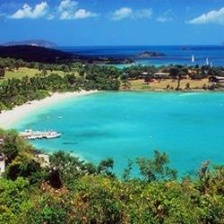neutral: (1, 57, 224, 213)
